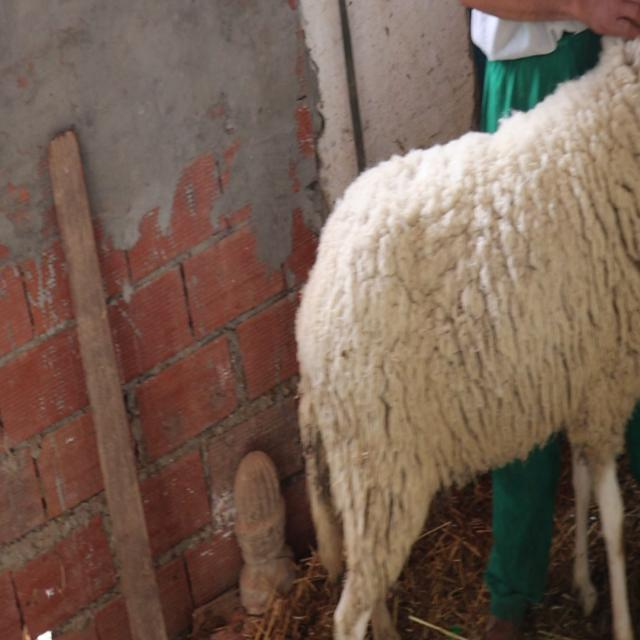Score_3: (296, 38, 640, 639)
